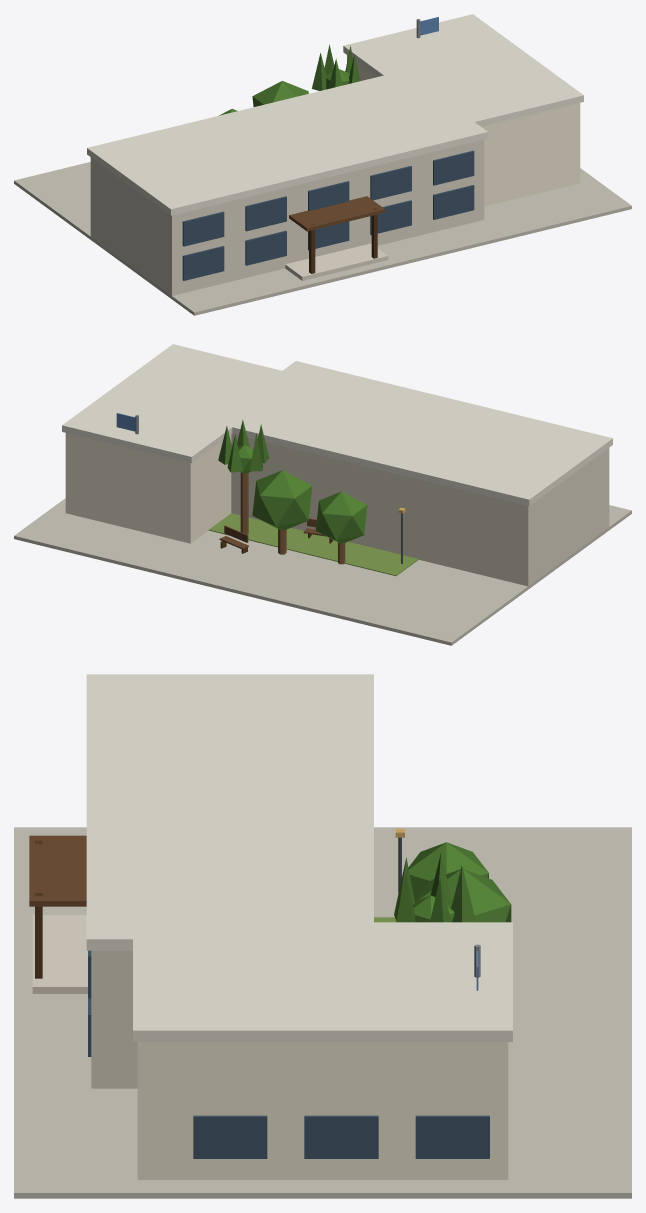
File: building.school-middle.glb
The picture shows the model from 3 angles, top to bottom: view 1: azimuth 30°, elevation 25°; view 2: azimuth 150°, elevation 25°; view 3: azimuth 270°, elevation 25°; orthographic projection. The views are drawn at different scales.
Visible parts, largest first — view 1: building.school-middle; view 2: building.school-middle; view 3: building.school-middle.
Part boxes in pixels (x1,y1,x2,y2): building.school-middle: (14, 14, 631, 315); building.school-middle: (14, 344, 631, 645); building.school-middle: (14, 674, 631, 1198).
Size of the model in its own units: 28.15 by 6.8 by 20.
